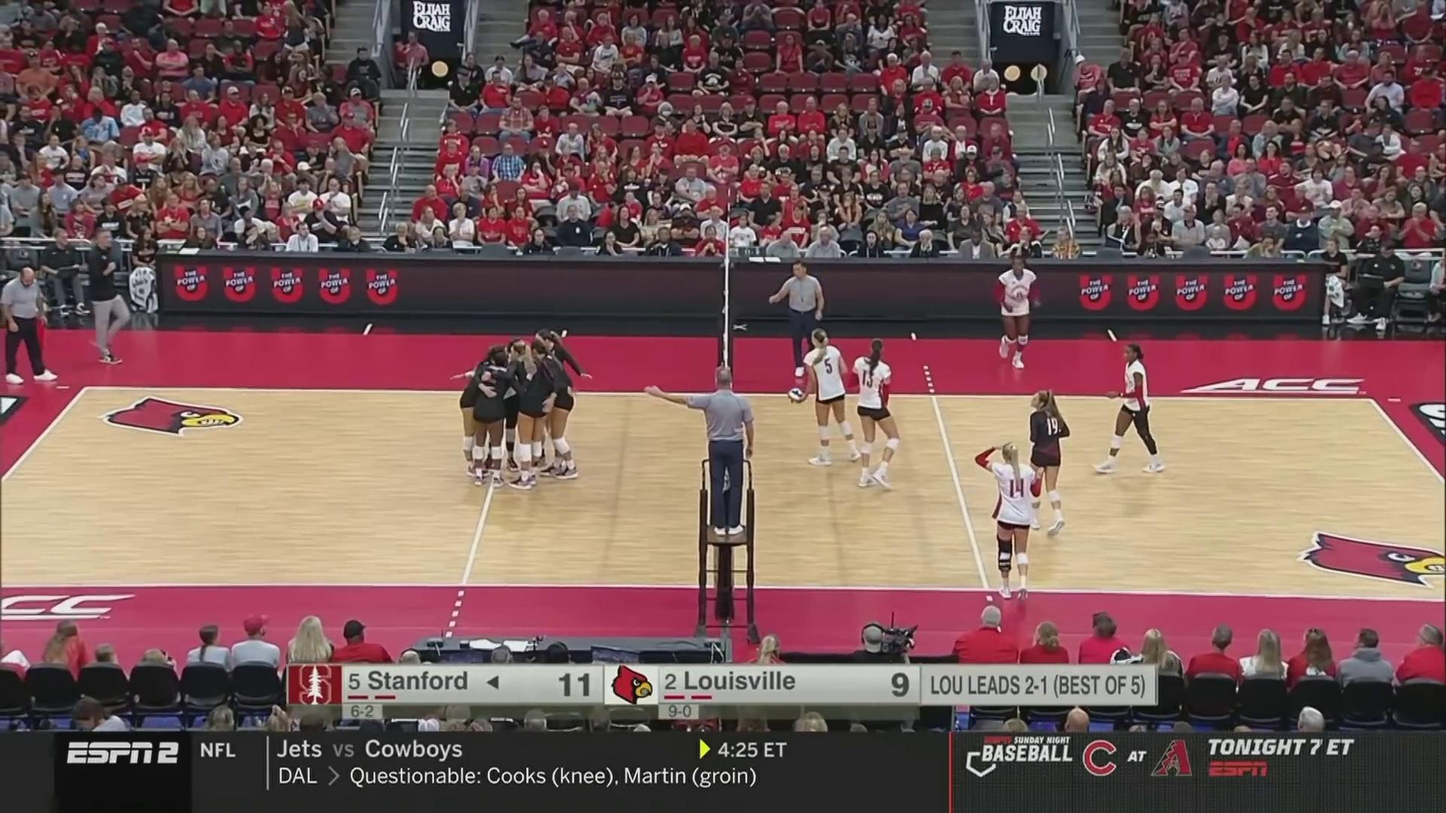player: (970, 446, 1041, 602), (795, 330, 859, 470), (1095, 348, 1164, 474), (847, 340, 901, 490), (458, 339, 505, 482), (531, 340, 578, 479), (1027, 391, 1073, 532), (508, 342, 546, 482), (502, 339, 539, 476), (993, 258, 1038, 366), (537, 332, 571, 474), (475, 352, 507, 481)
refree: (667, 364, 760, 537), (0, 267, 59, 388), (776, 259, 824, 375)
